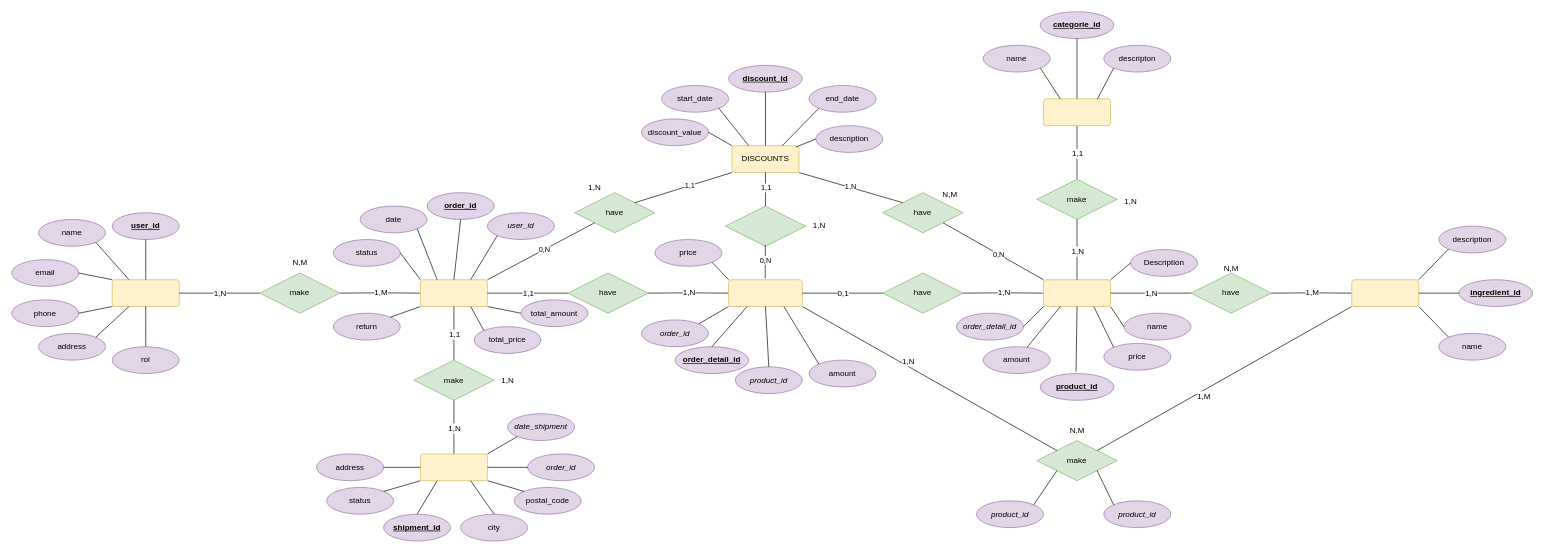
This 1544x553 diagram has some shape labels left out. The shapes that lost their labels are listed below. From the top down, each one's centre as x and y in pixels, then its label:
[1077,112]: CATEGORIES
[765,225]: Relationship
[145,293]: USER
[453,293]: ORDERS
[765,293]: ORDER_DETAILS
[1077,293]: PRODUCTS
[1385,293]: INGREDIENTS
[453,467]: SHIPMENTS
